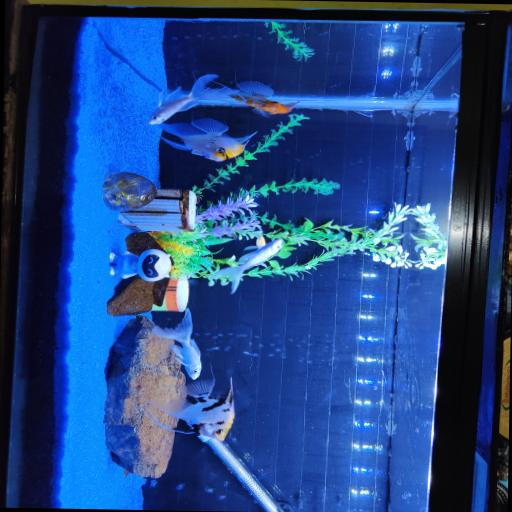Fish: (145, 379, 233, 440), (148, 75, 237, 124), (160, 119, 255, 161), (210, 239, 281, 294), (151, 309, 200, 379), (230, 82, 296, 116), (255, 235, 265, 248)
